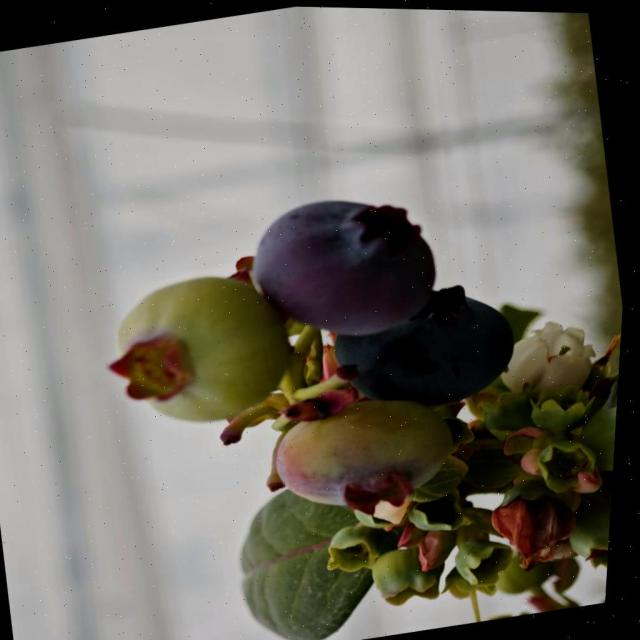RipeBlueBerry: (330, 275, 530, 422)
Semi-RipeBlueBerry: (240, 179, 454, 354)
UnripeBlueBerry: (101, 257, 307, 438), (267, 386, 471, 520)
